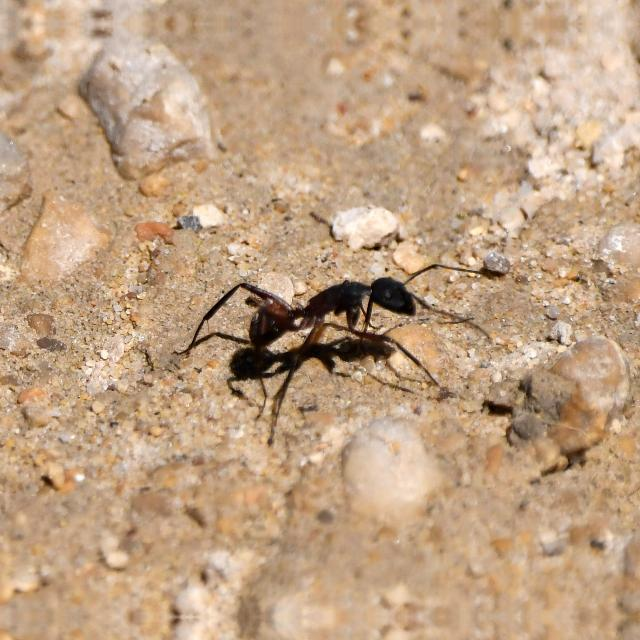Camponotus: (196, 226, 452, 407)
